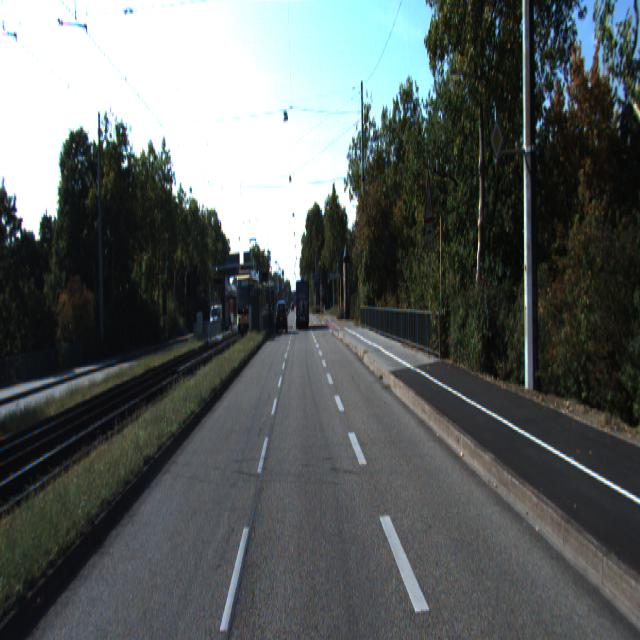Car: (235, 268, 264, 334), (296, 278, 310, 328), (276, 300, 287, 333)
